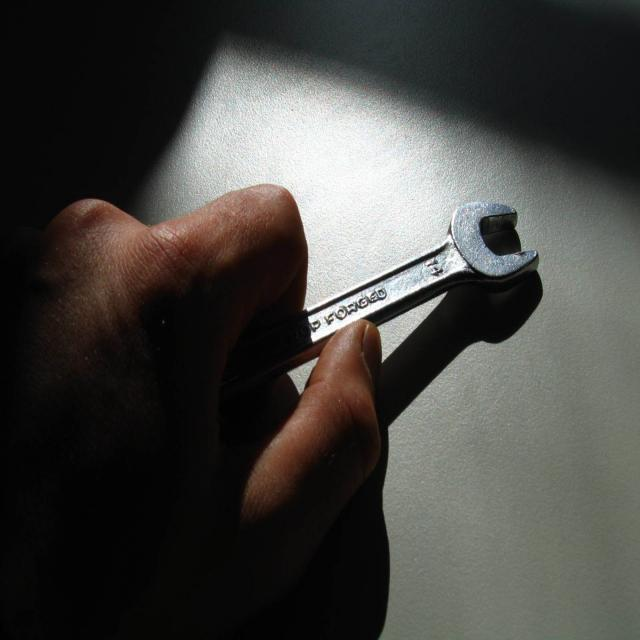wrench: (283, 198, 542, 368)
